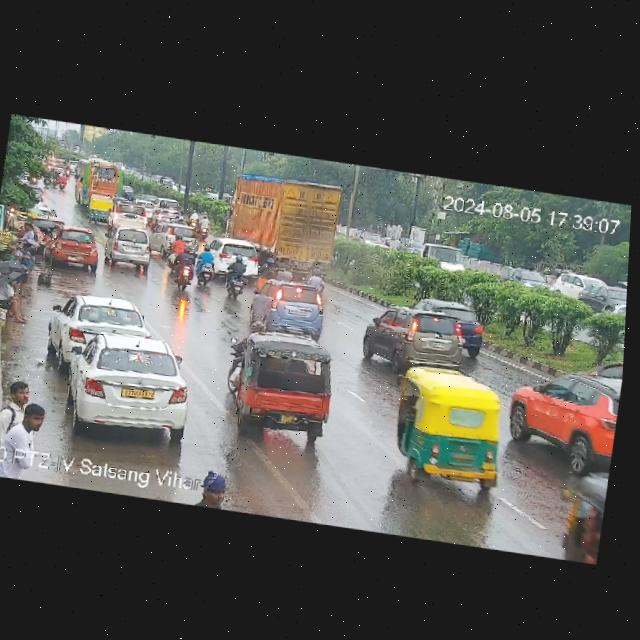bus: (73, 157, 124, 208)
car: (388, 357, 513, 492), (59, 326, 201, 442), (222, 324, 342, 434), (501, 362, 618, 473), (356, 298, 476, 378), (47, 288, 151, 363), (250, 275, 335, 343), (414, 296, 487, 348), (44, 225, 101, 269), (105, 226, 157, 272), (577, 274, 628, 316), (208, 236, 262, 275), (150, 220, 200, 254), (500, 264, 557, 292), (551, 271, 601, 299), (109, 200, 150, 231), (87, 194, 115, 226), (356, 229, 392, 252)
motorcycle: (221, 253, 252, 299), (171, 245, 198, 292), (194, 246, 217, 288), (169, 235, 185, 263), (197, 212, 211, 239)
person: (0, 377, 48, 482), (16, 221, 45, 257)
truck: (224, 168, 359, 280), (419, 241, 468, 274)
